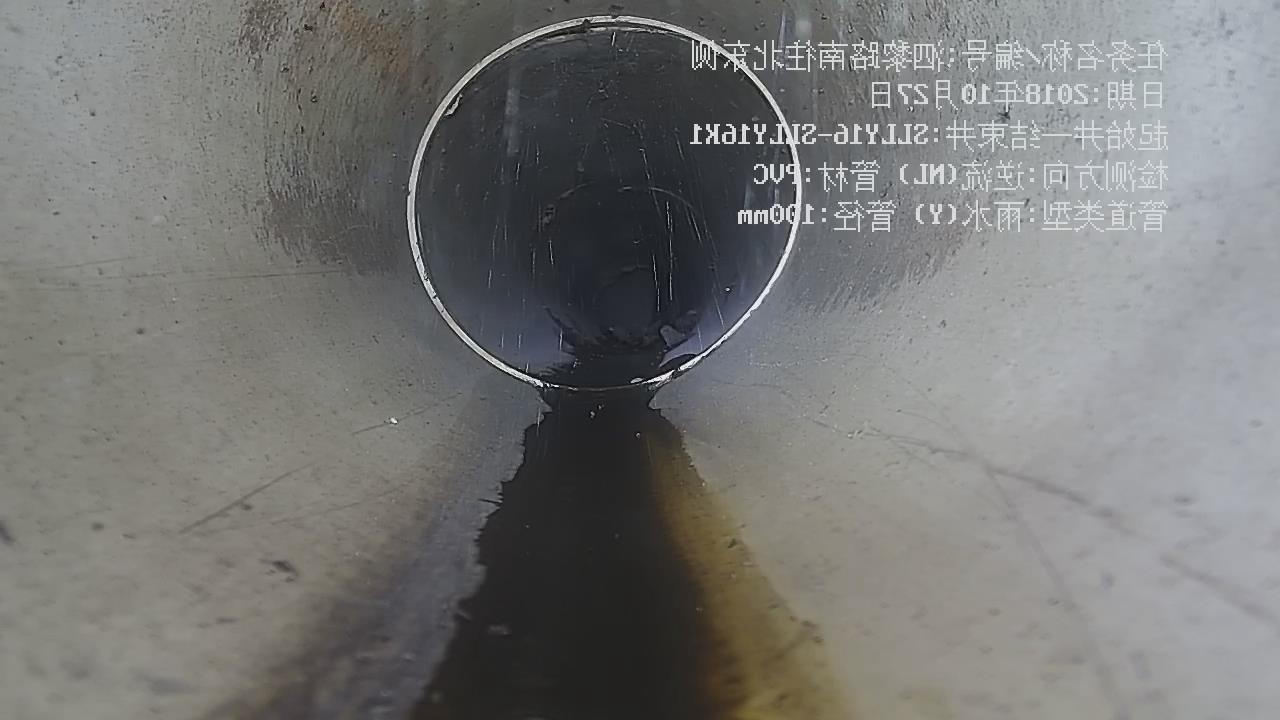CKTJ: (402, 11, 806, 395)
